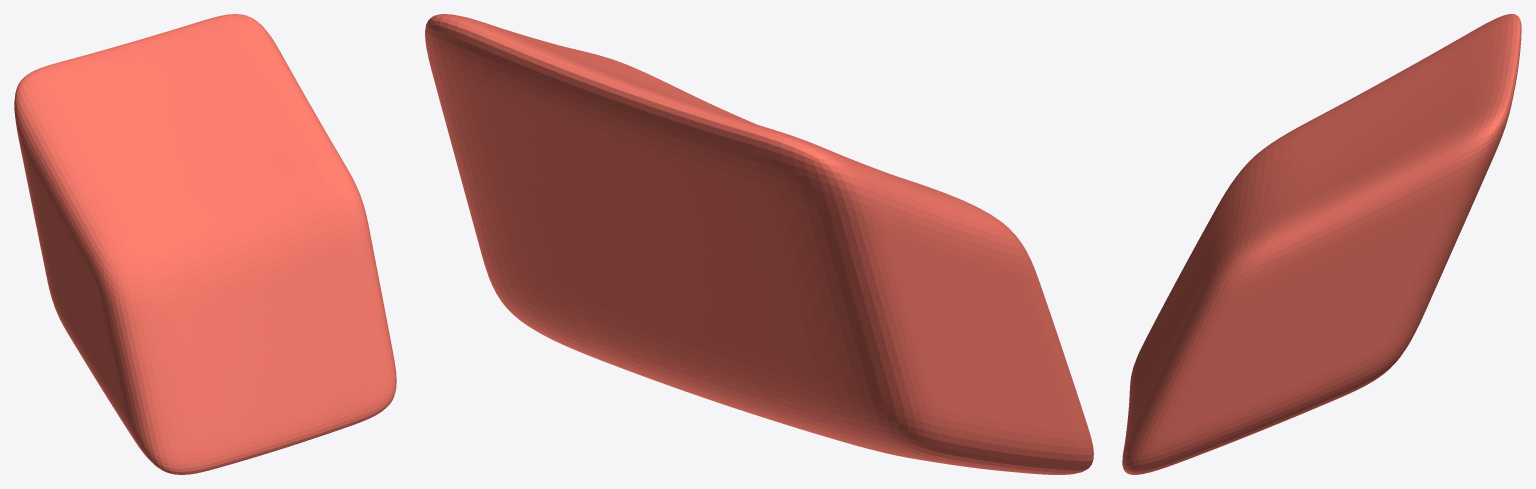
The picture shows the model from 3 angles, left to right: view 1: azimuth 30°, elevation 25°; view 2: azimuth 150°, elevation 25°; view 3: azimuth 270°, elevation 25°; orthographic projection. The views are drawn at different scales.
Parts seen in each view (by area): view 1: waves_1.055; view 2: waves_1.055; view 3: waves_1.055.
Part boxes in pixels (left/top/right/bottom): waves_1.055: left=14, top=14, right=396, bottom=474; waves_1.055: left=425, top=14, right=1093, bottom=474; waves_1.055: left=1122, top=14, right=1521, bottom=474.
Bounding box in the file's own units: 30.13 × 34.95 × 32.92.
